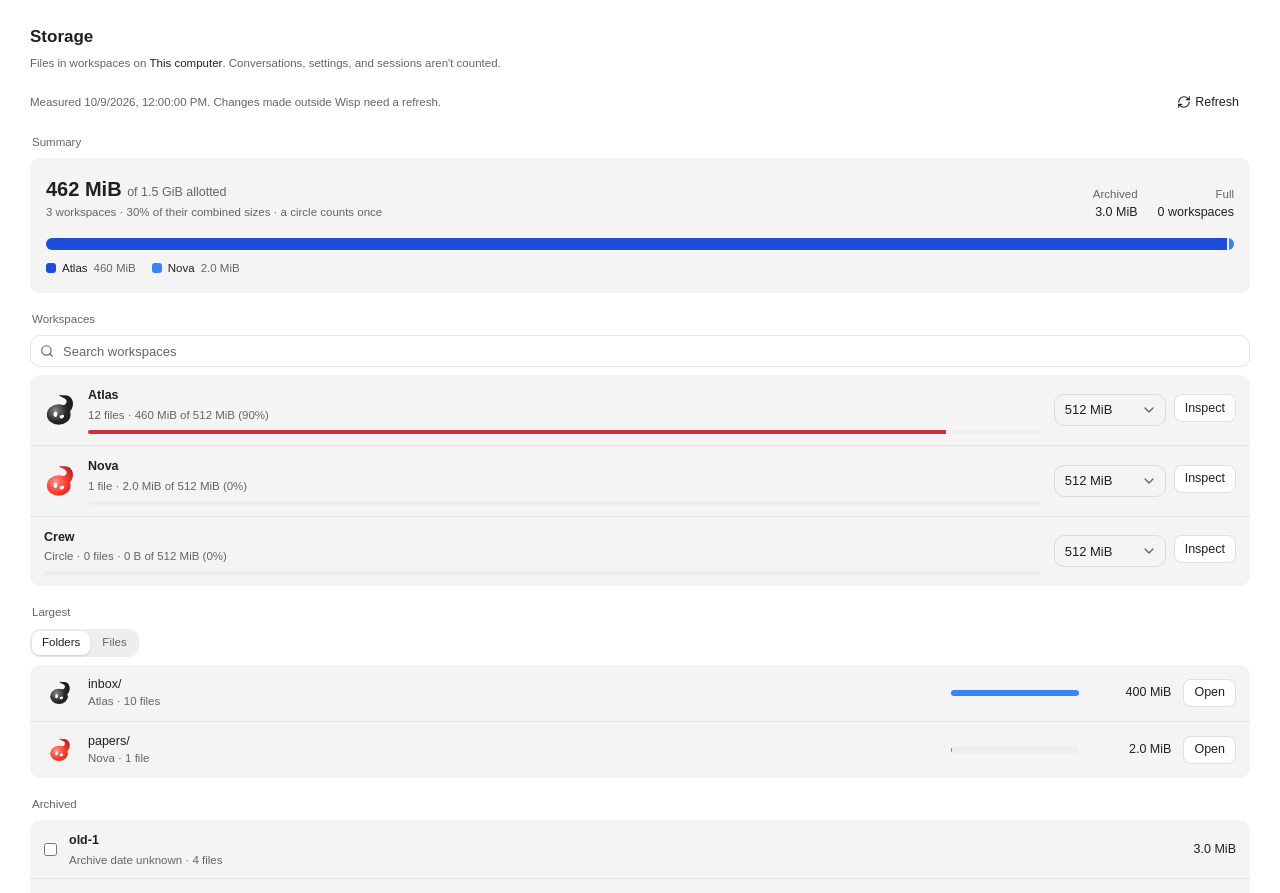
it: lists the largest folders across workspaces and opens one
Click the radio button labelled "Folders" at (61, 642), box left=32, top=630, right=90, bottom=654
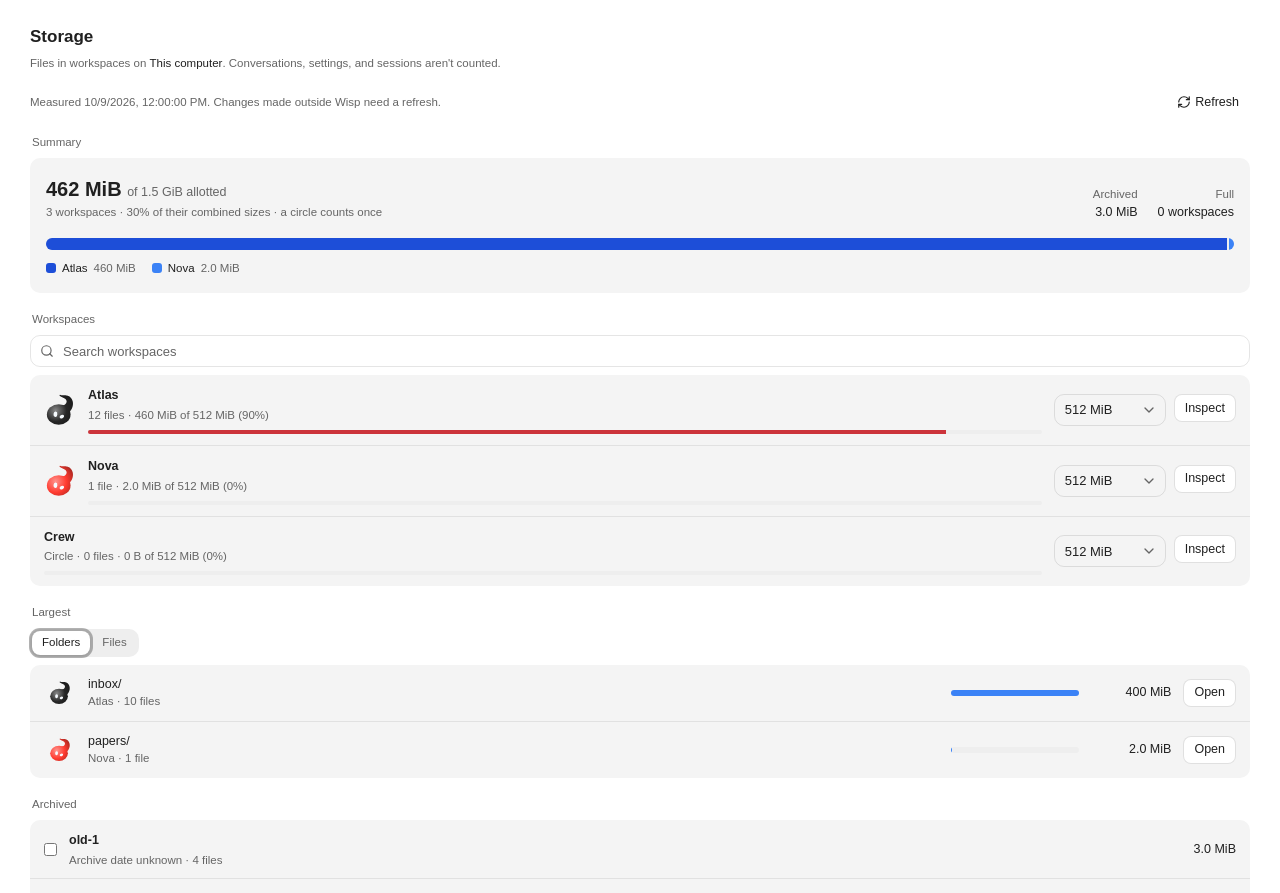
Click the button with aria-label "Open inbox/ in Atlas · 10 files" at (1210, 692), box left=1183, top=678, right=1236, bottom=706
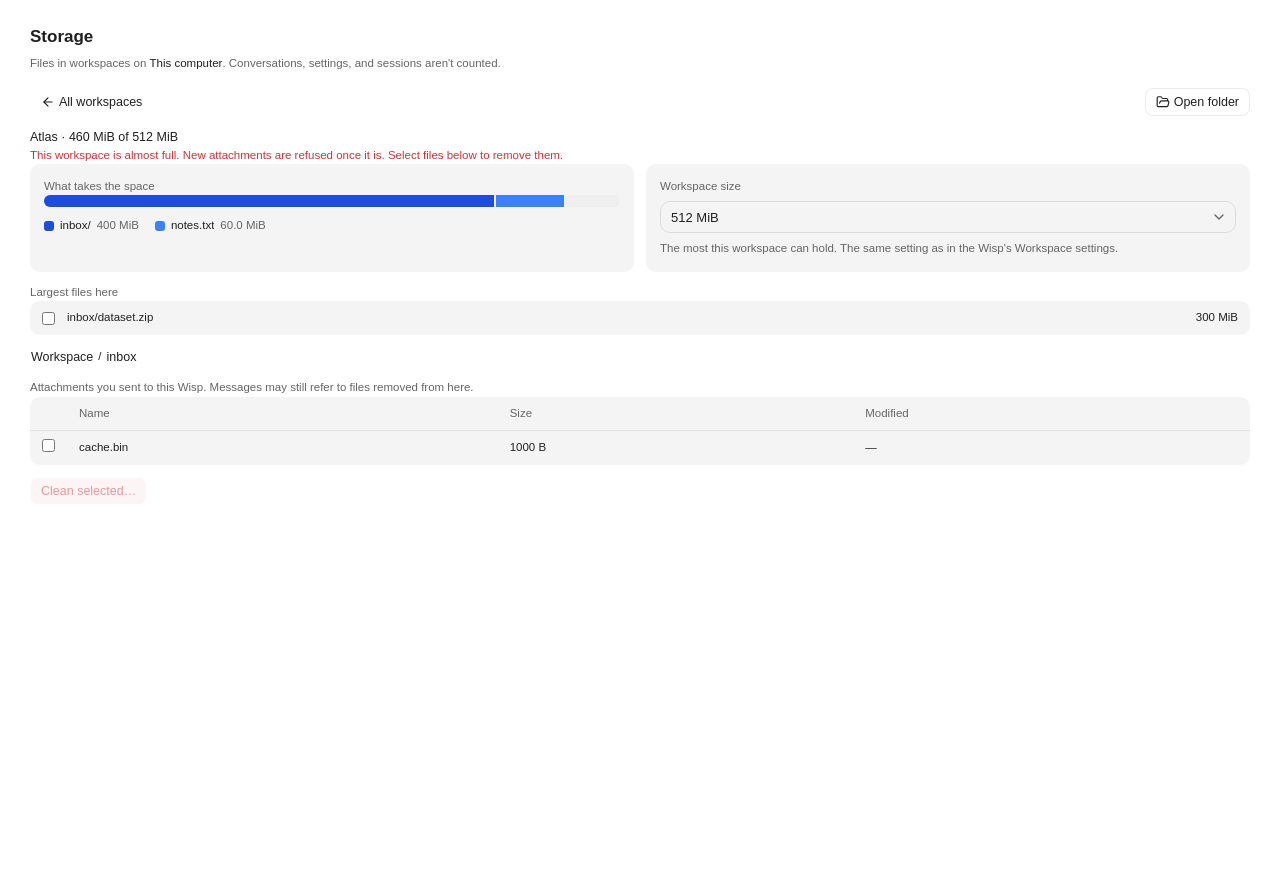
Check: the picture named "Space by folder: inbox/ 400 MiB, notes.txt 60.0 MiB" is shown, box left=44, top=195, right=620, bottom=207
